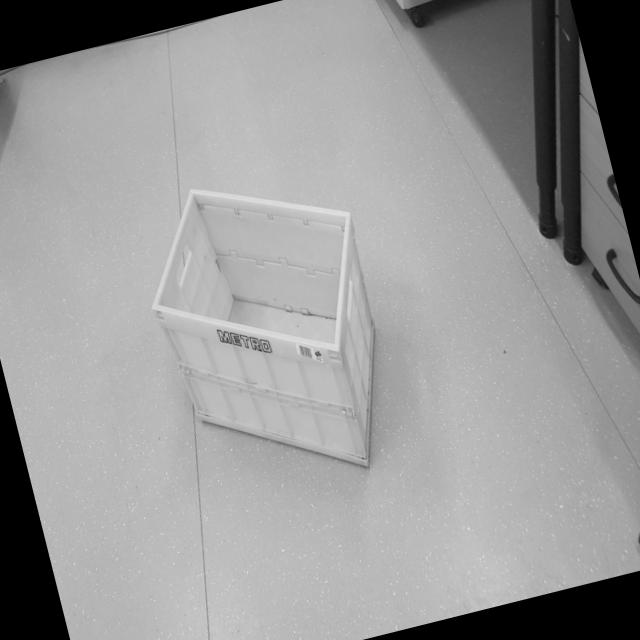box: (107, 136, 420, 523)
